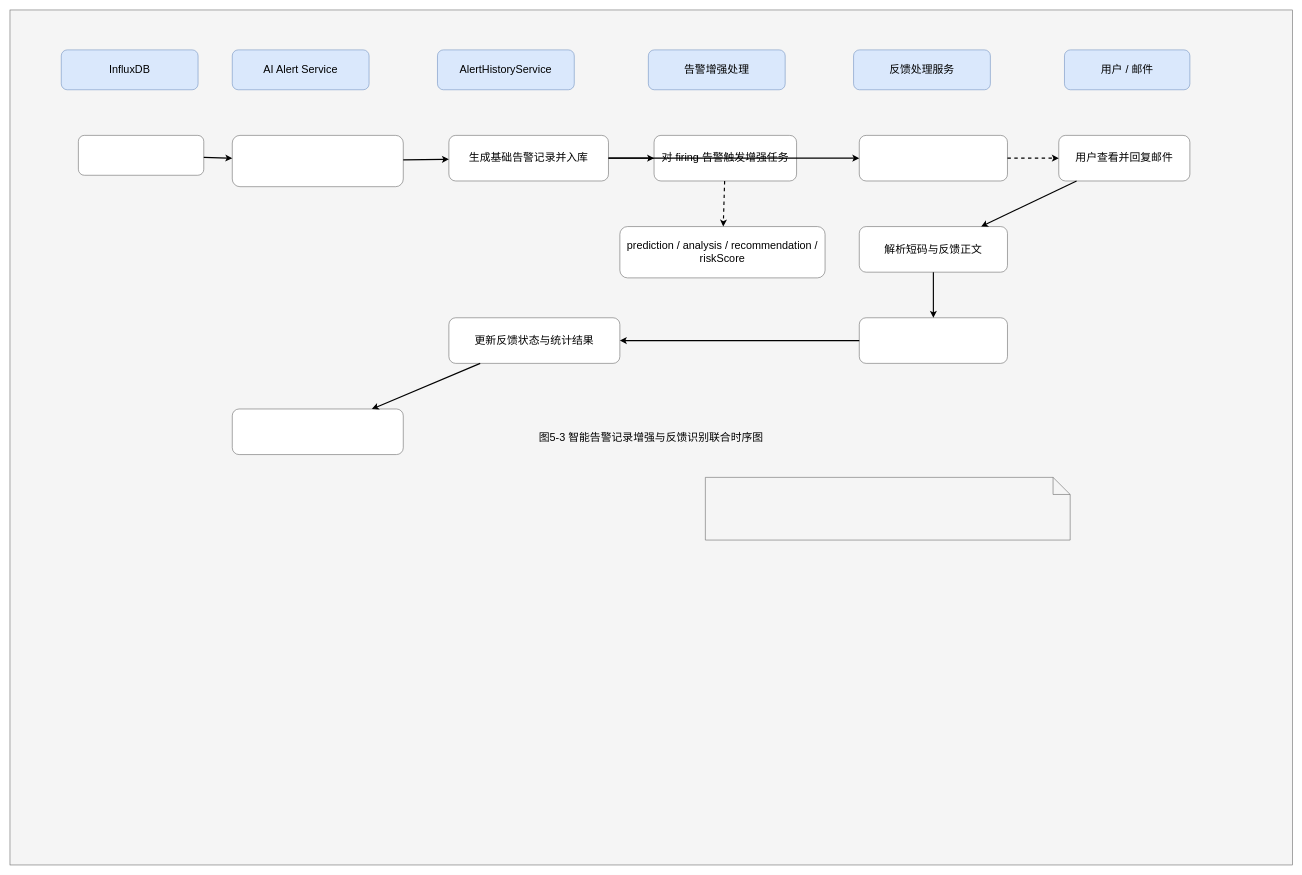
This 1302x875 diagram has some shape labels left out. Each missing label, with the box of its shape:
反馈结果用于后续参数优化: (232, 408, 403, 455)
发送通知邮件并等待反馈: (859, 135, 1007, 181)
复杂文本进入辅助语义判断: (859, 317, 1007, 363)
执行阈值、趋势与异常进程分析: (232, 135, 403, 187)
该图将“智能告警生成、关键告警增强说明、邮件反馈识别、反馈回流优化”四个过程融合到同一张联合时序图中，适合作为第五章核心图。: (705, 477, 1070, 540)
读取近时间窗口指标: (78, 135, 204, 175)
